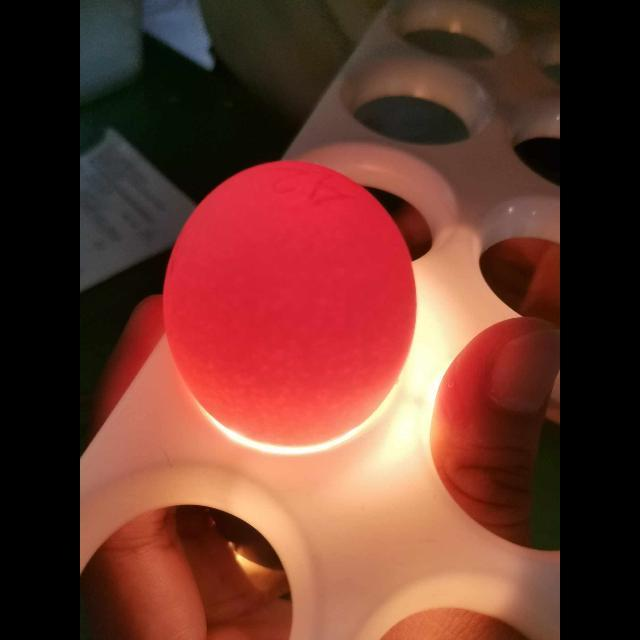Infertile: (166, 162, 418, 438)
